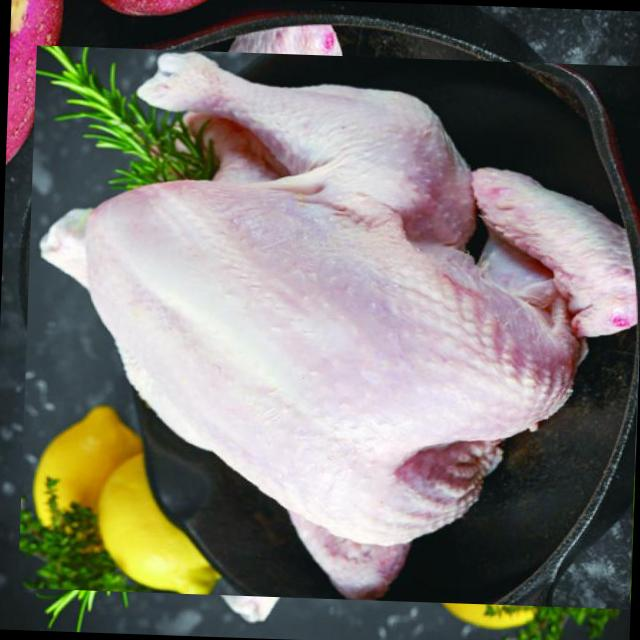chicken: (34, 29, 634, 626)
